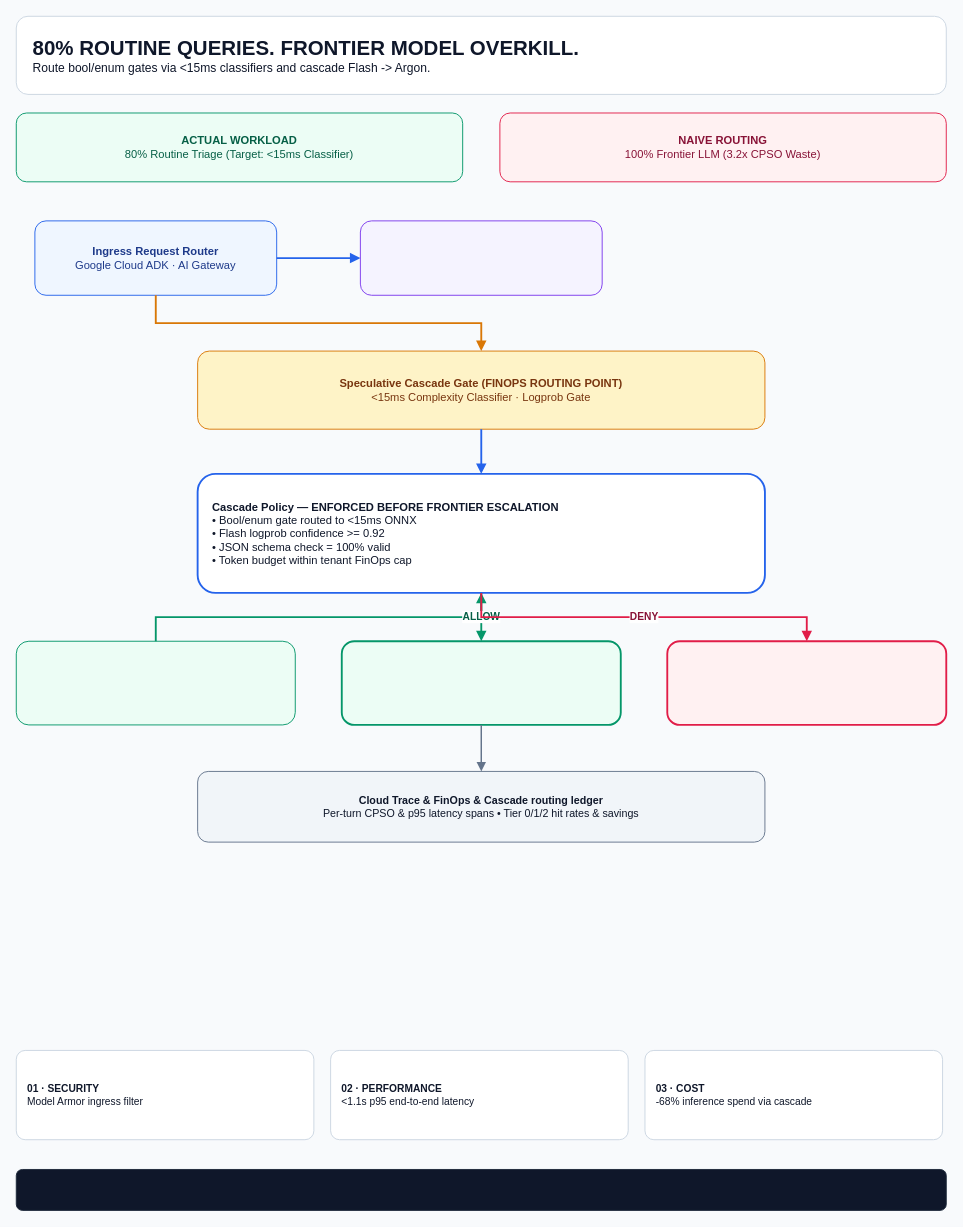
Image size: 963x1227. Some labels were removed from this diagram. Here are the shapes that lost their labels. From the top down, the box of each, then its label:
(359, 220, 602, 295): Tiered Model Pool Gemini 3.8 Flash -> Gemini 4 Argon
(15, 640, 295, 725): FinOps Budget Controller Semantic Cache & KV Prefix (90% cached prefix discount)
(340, 640, 621, 725): ALLOW → Fast-Path Response -68% inference spend · <1.1s p95
(666, 640, 947, 725): DENY → Escalate to Argon Only 16% of traffic hits Frontier tier
(15, 1169, 946, 1210): NITIN AGGARWAL • FLOW-04 • BLUEPRINT T61 • NOVEMBER 2026
